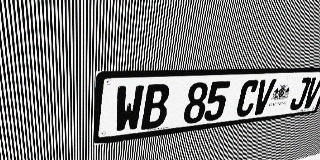5: (203, 81, 231, 122)
8: (182, 82, 211, 124)
B: (141, 83, 171, 130)
C: (234, 80, 261, 118)
J: (288, 77, 312, 111)
V: (251, 79, 277, 115), (301, 77, 320, 109)
W: (114, 85, 144, 133)
